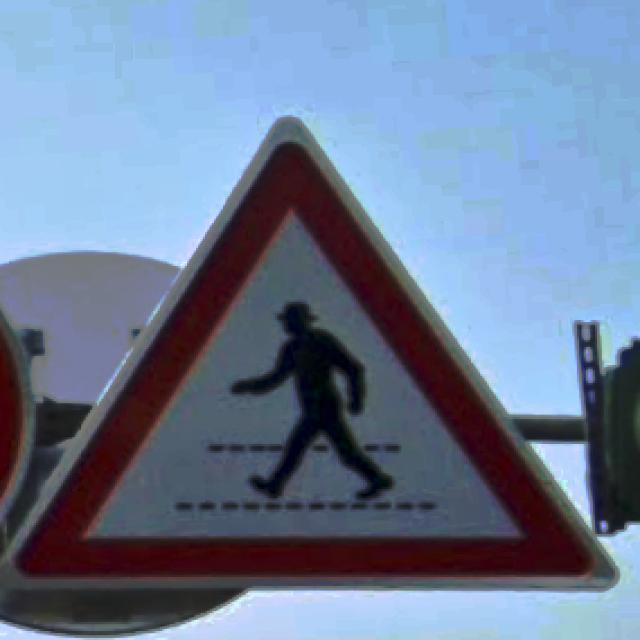pedestriancross: (16, 141, 593, 579)
